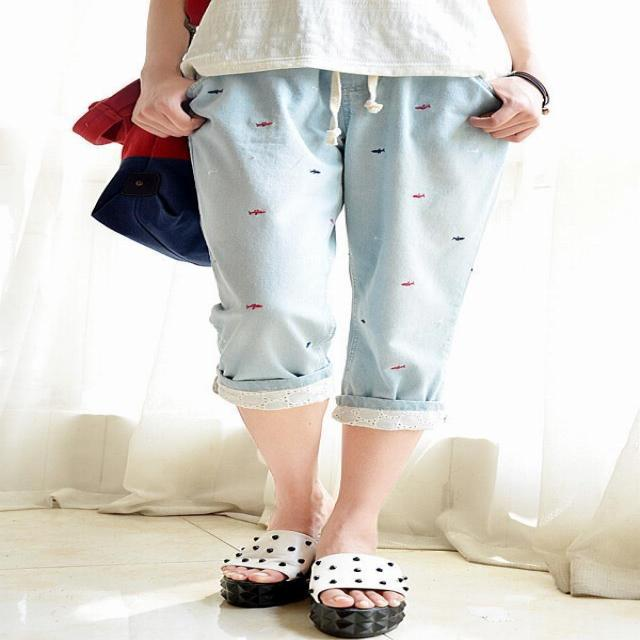trousers: (121, 41, 497, 440)
